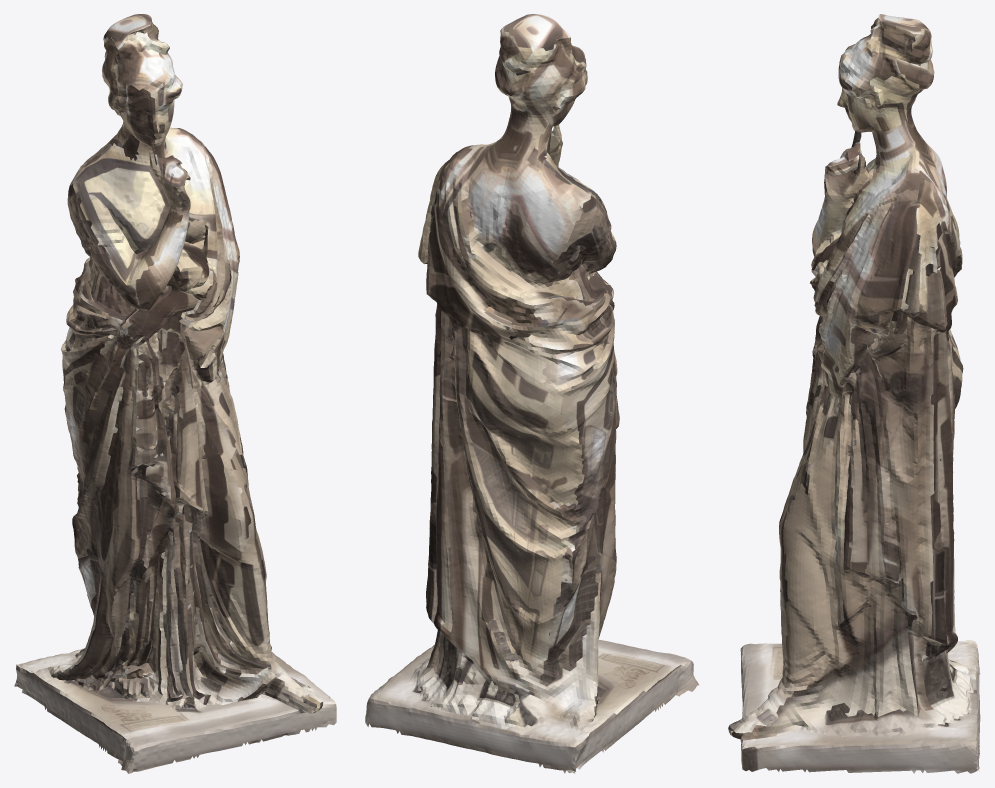
File: textured_paint3d.glb
3 views of the same model, side by side, from view 1: azimuth 30°, elevation 25°; view 2: azimuth 150°, elevation 25°; view 3: azimuth 270°, elevation 25° (orthographic). The views are drawn at different scales.
Visible parts, largest first — view 1: Node-Mesh; view 2: Node-Mesh; view 3: Node-Mesh.
Part boxes in pixels (x1=…): Node-Mesh: x1=14, y1=14, x2=336, y2=773; Node-Mesh: x1=365, y1=14, x2=699, y2=773; Node-Mesh: x1=728, y1=14, x2=980, y2=773.
Bounding box in the file's own units: 0.6459 × 2 × 0.6593.
Materials: 1 (1 with a texture image).
